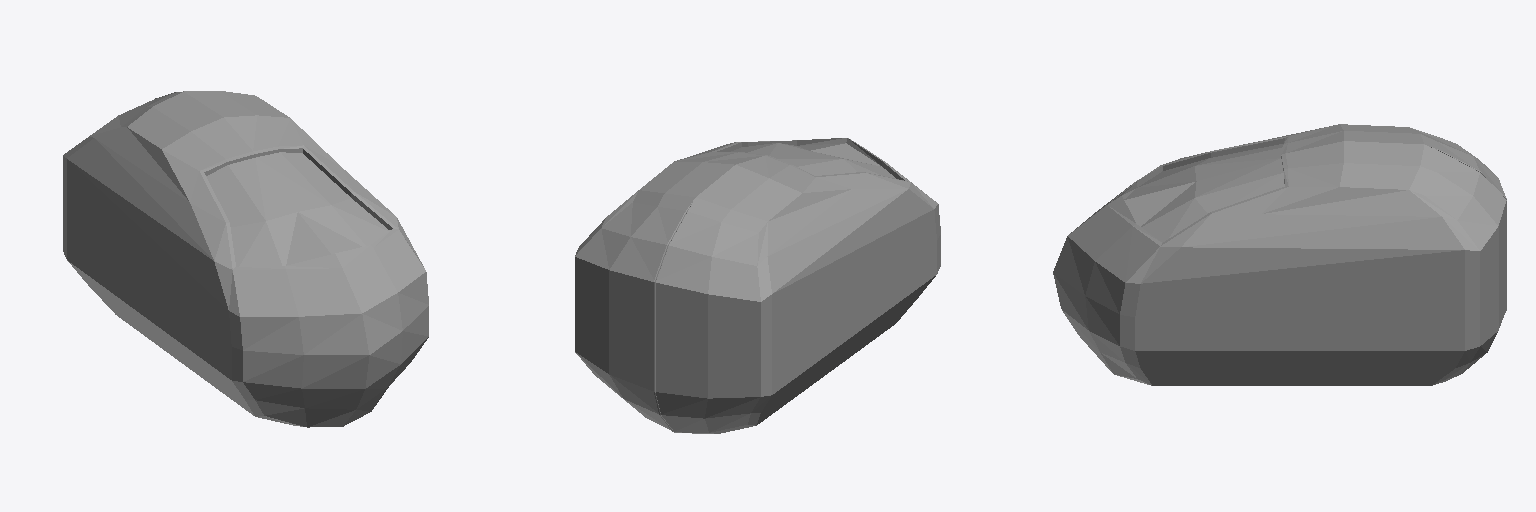
The model's file is trainhead.obj.
3 renders of one model, left to right at view 1: azimuth 30°, elevation 25°; view 2: azimuth 150°, elevation 25°; view 3: azimuth 270°, elevation 25°, orthographic.
Visible parts, largest first — view 1: Cube; view 2: Cube; view 3: Cube.
Boxes of the visible parts, x1=… form: Cube: x1=63, y1=91, x2=428, y2=427; Cube: x1=575, y1=138, x2=940, y2=433; Cube: x1=1053, y1=124, x2=1506, y2=385.
Size of the model in its own units: 6 by 6.82 by 12.2.